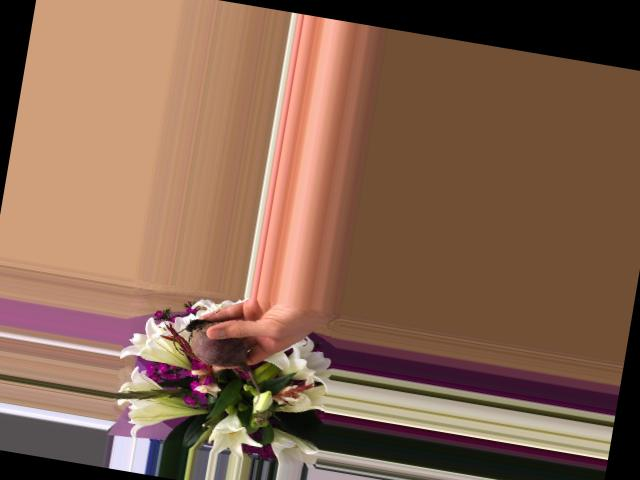beet: (164, 314, 270, 405)
